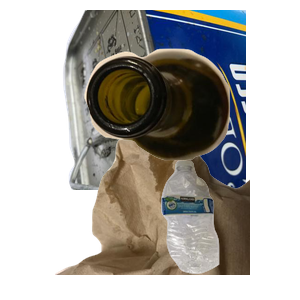glass: (82, 46, 300, 199)
metal: (60, 10, 300, 190)
plastic: (159, 158, 300, 300)
trash: (52, 120, 292, 300)
